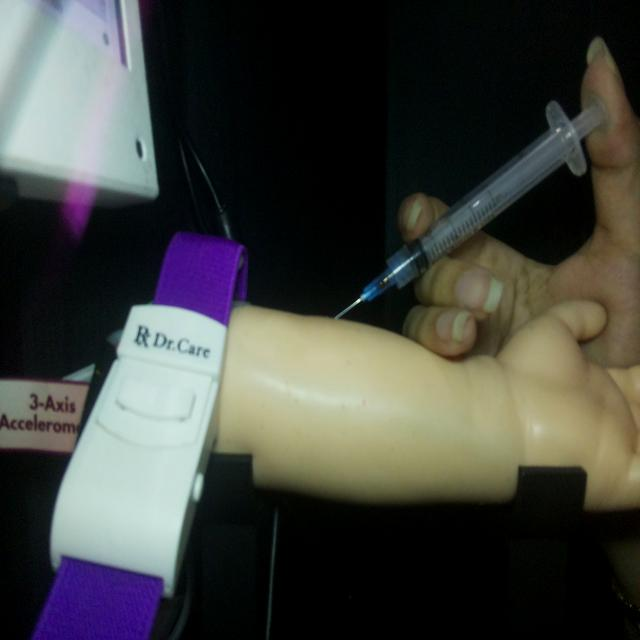30 degrees: (332, 88, 610, 322)
